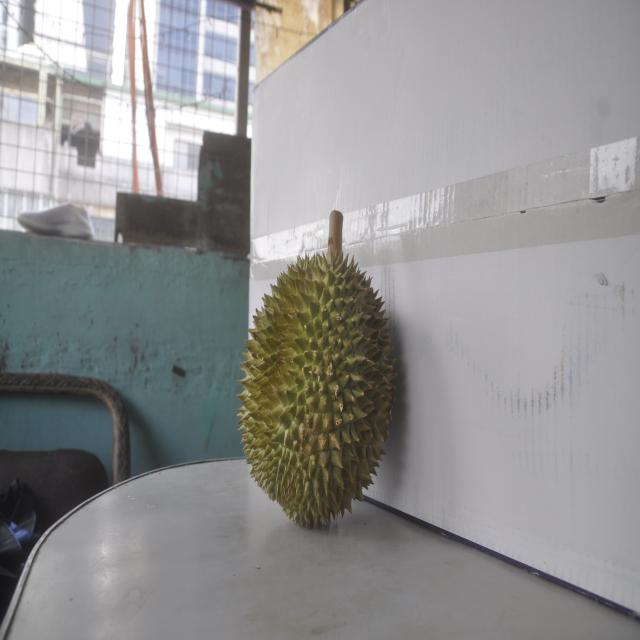mature: (237, 231, 396, 529)
